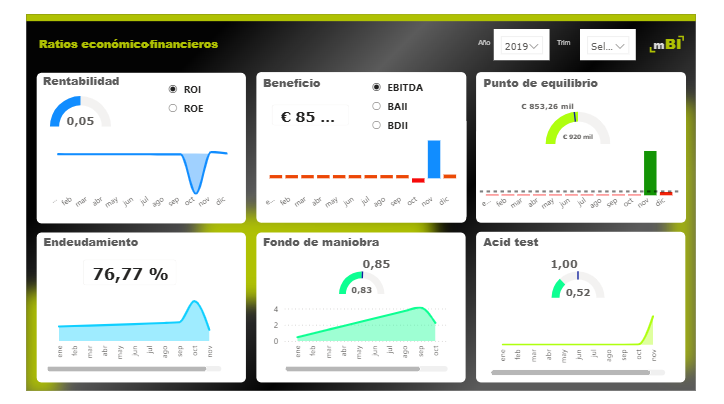

This screenshot's page, from the dashboard's own definition file:
{"tool":"powerbi","page":{"name":"Página 1","canvas":[1280,720],"ordinal":0},"visuals":[{"type":"slicer","fields":{"Values":["dimCalendario.Año"]},"box":[829.4,106.8,80.1,44.5],"z":0},{"type":"slicer","fields":{"Values":["dimCalendario.Trimestre"]},"box":[954,106.8,80.1,44.5],"z":1000},{"type":"cardVisual","fields":{"Data":["3 Ratios.Endeudamiento"]},"box":[224,421.2,168.5,71.7],"z":3000},{"type":"gauge","fields":{"Y":["3 Ratios.ROI"]},"box":[184.6,198.9,105.7,53.8],"z":4000},{"type":"gauge","fields":{"Y":["3 Ratios.Fondo de maniobra"]},"box":[535.9,421.2,209.7,71.7],"z":5000},{"type":"gauge","fields":{"Y":["3 Ratios.Acid test"]},"box":[869.2,421.2,163.1,77.1],"z":6000},{"type":"areaChart","fields":{"Category":["dimCalendario.Mes"],"Y":["3 Ratios.ROI"]},"box":[184.6,252.7,276,123.7],"z":7000},{"type":"areaChart","fields":{"Category":["dimCalendario.Mes"],"Y":["3 Ratios.Endeudamiento"]},"box":[184.6,480.3,259.9,123.7],"z":8000},{"type":"areaChart","fields":{"Category":["dimCalendario.Mes"],"Y":["3 Ratios.Fondo de maniobra"]},"box":[509,492.9,259.9,111.1],"z":9000},{"type":"areaChart","fields":{"Category":["dimCalendario.Mes"],"Y":["3 Ratios.Acid test"]},"box":[820.8,498.2,259.9,111.1],"z":10000},{"type":"clusteredColumnChart","fields":{"Category":["dimCalendario.Mes"],"Y":["3 Ratios.EBITDA"]},"box":[494.7,240.2,295.7,136.2],"z":11000},{"type":"clusteredColumnChart","fields":{"Category":["dimCalendario.Mes"],"Y":["2 Cálculos BYG.Producción"]},"box":[804.7,254.5,295.7,123.7],"z":12000},{"type":"gauge","fields":{"Y":["2 Cálculos BYG.Producción"],"TargetValue":["3 Ratios.P. Equilibrio"]},"box":[822.6,198.9,256.3,78.9],"z":13000},{"type":"slicer","fields":{"Values":["BENEFICIO.BENEFICIO"]},"box":[641.6,172.1,127.2,91.4],"z":13501},{"type":"cardVisual","fields":{"Data":["3 Ratios.EBITDA"]},"box":[494.7,198.9,145.2,64.5],"z":14001},{"type":"slicer","fields":{"Values":["RENTABILIDAD.RENTABILIDAD"]},"box":[349.5,175.6,84.2,87.8],"z":14002}]}

Visuals, with their boxes in screenshot pixels (x1, y1, x2, y2), scaled from the page's 1280x720 canvas onto the 724x404 screenshot:
slicer - dimCalendario.Año: BBox(469, 60, 514, 85)
slicer - dimCalendario.Trimestre: BBox(540, 60, 585, 85)
cardVisual - 3 Ratios.Endeudamiento: BBox(127, 236, 222, 277)
gauge - 3 Ratios.ROI: BBox(104, 112, 164, 142)
gauge - 3 Ratios.Fondo de maniobra: BBox(303, 236, 422, 277)
gauge - 3 Ratios.Acid test: BBox(492, 236, 584, 280)
areaChart - dimCalendario.Mes x 3 Ratios.ROI: BBox(104, 142, 261, 211)
areaChart - dimCalendario.Mes x 3 Ratios.Endeudamiento: BBox(104, 270, 251, 339)
areaChart - dimCalendario.Mes x 3 Ratios.Fondo de maniobra: BBox(288, 277, 435, 339)
areaChart - dimCalendario.Mes x 3 Ratios.Acid test: BBox(464, 280, 611, 342)
clusteredColumnChart - dimCalendario.Mes x 3 Ratios.EBITDA: BBox(280, 135, 447, 211)
clusteredColumnChart - dimCalendario.Mes x 2 Cálculos BYG.Producción: BBox(455, 143, 622, 212)
gauge - 2 Cálculos BYG.Producción x 3 Ratios.P. Equilibrio: BBox(465, 112, 610, 156)
slicer - BENEFICIO.BENEFICIO: BBox(363, 97, 435, 148)
cardVisual - 3 Ratios.EBITDA: BBox(280, 112, 362, 148)
slicer - RENTABILIDAD.RENTABILIDAD: BBox(198, 99, 245, 148)
